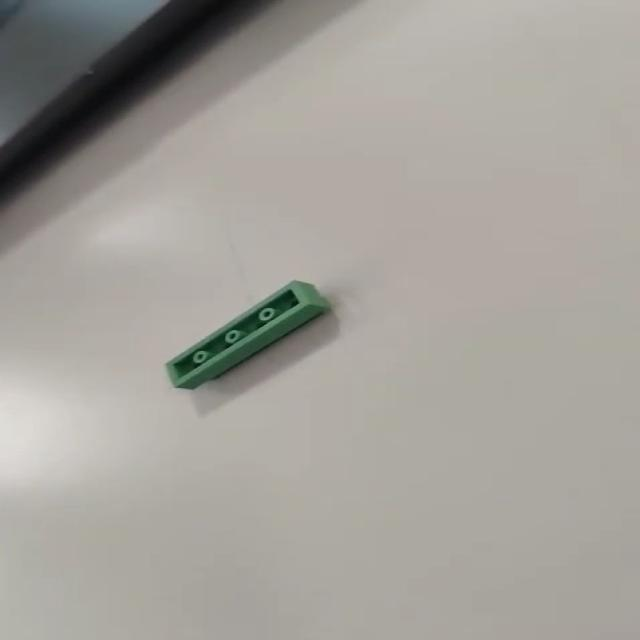C4x1x0: (152, 276, 345, 396)
